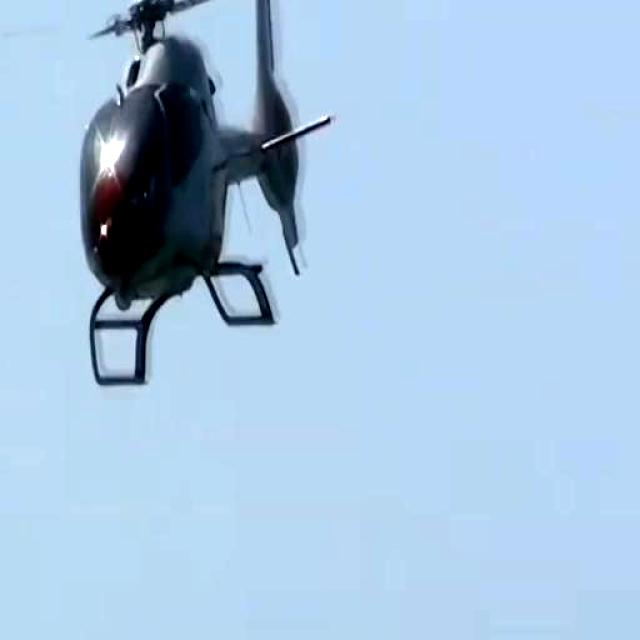drone: (49, 0, 385, 384)
